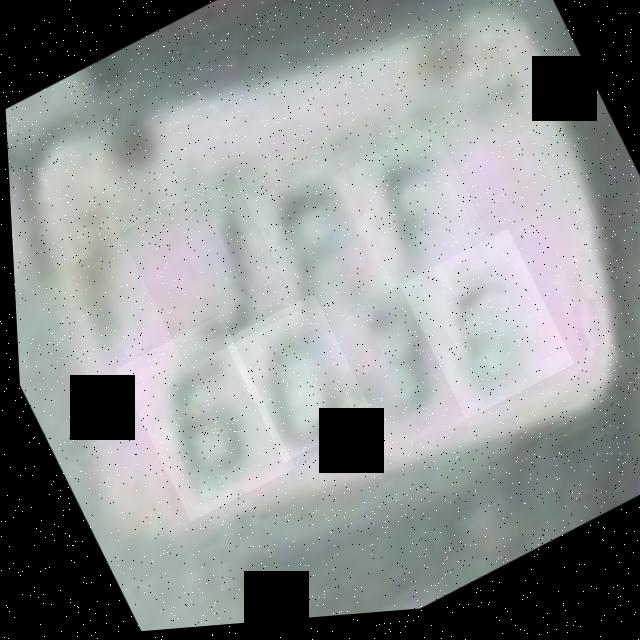5: (394, 233, 572, 430), (302, 269, 469, 455)
6: (109, 313, 292, 528), (217, 294, 371, 471)
F: (328, 128, 488, 299)
J: (115, 174, 297, 374)
R: (227, 159, 394, 346)
T: (318, 116, 483, 310)
